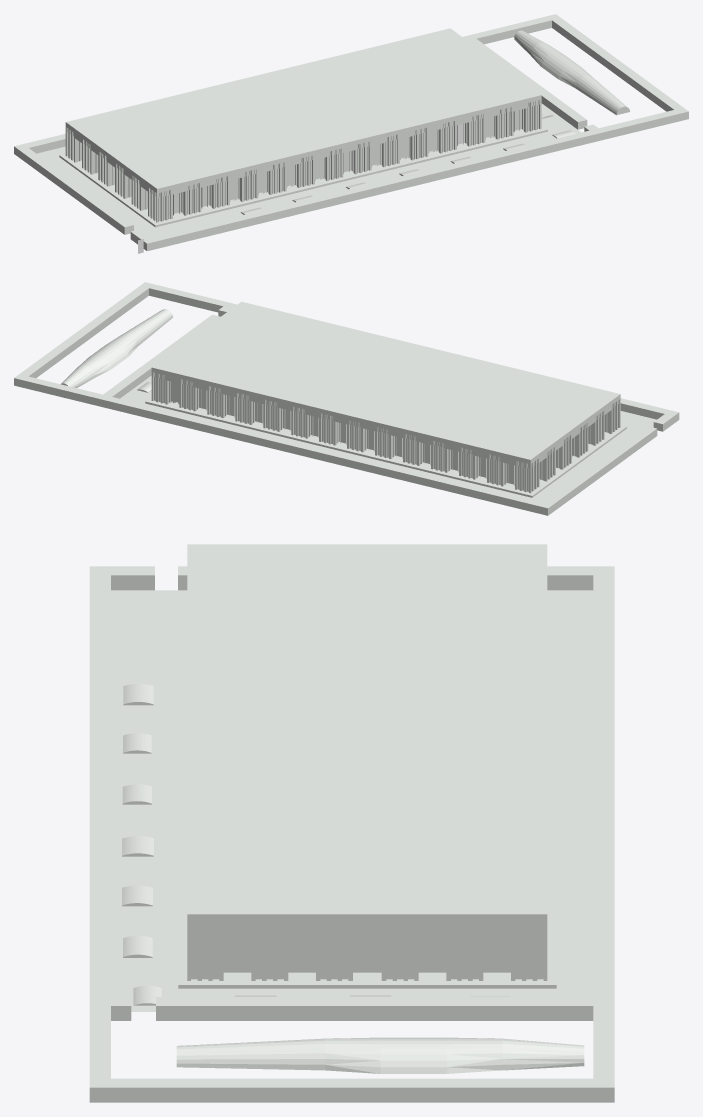
3 renders of one model, top to bottom at view 1: azimuth 30°, elevation 25°; view 2: azimuth 150°, elevation 25°; view 3: azimuth 270°, elevation 25°, orthographic. The views are drawn at different scales.
Parts seen in each view (by area): view 1: Mesh34 Model, Mesh33 Model; view 2: Mesh34 Model, Mesh33 Model; view 3: Mesh34 Model, Mesh33 Model.
Part boxes in pixels (<box>): Mesh34 Model: <box>14,14,688,251</box>; Mesh33 Model: <box>514,30,629,115</box>; Mesh34 Model: <box>14,282,679,515</box>; Mesh33 Model: <box>61,309,172,387</box>; Mesh34 Model: <box>89,544,614,1102</box>; Mesh33 Model: <box>176,1037,584,1073</box>.
Size of the model in its own units: 68.18 by 4.28 by 28.57.
3 materials, 2 textured.
